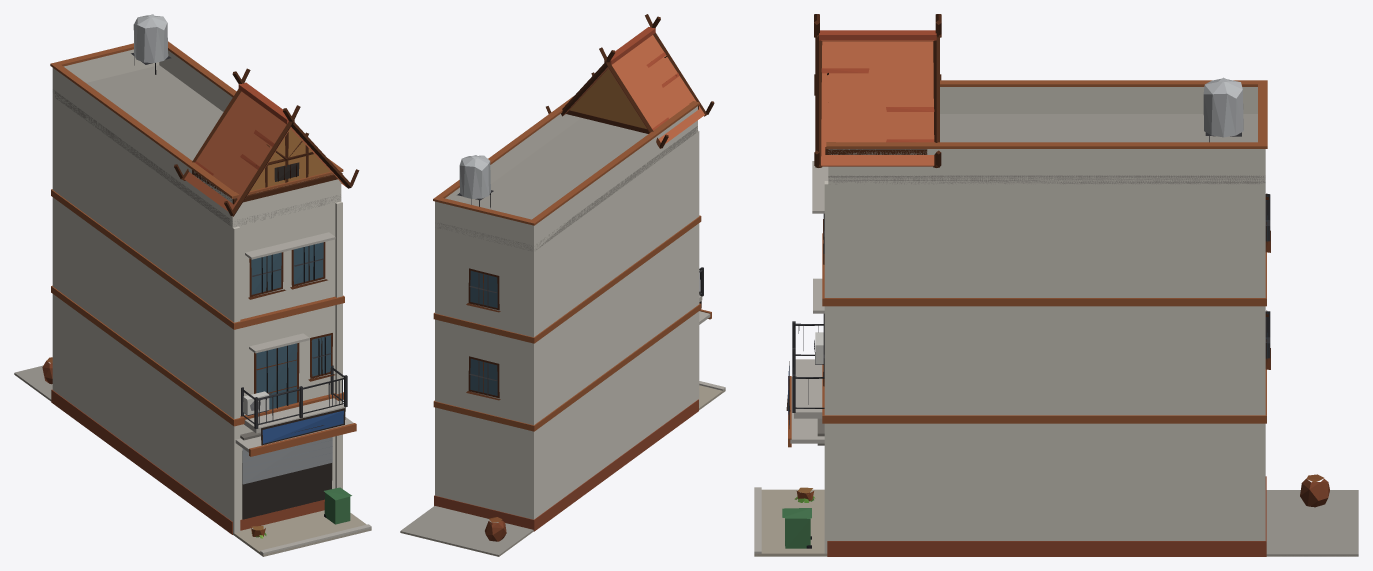
File: bay2_mid.glb
3 views of the same model, side by side, from view 1: azimuth 30°, elevation 25°; view 2: azimuth 150°, elevation 25°; view 3: azimuth 270°, elevation 25° (orthographic). The views are drawn at different scales.
Visible parts, largest first — view 1: body, windows; view 2: body, windows; view 3: body.
Boxes of the visible parts, left/top/right/bottom form: body: left=14, top=14, right=371, bottom=556; windows: left=242, top=162, right=332, bottom=519; body: left=400, top=14, right=725, bottom=556; windows: left=470, top=270, right=497, bottom=395; body: left=754, top=14, right=1358, bottom=556.
Bounding box in the file's own units: 4.98 × 15.02 × 15.9.
